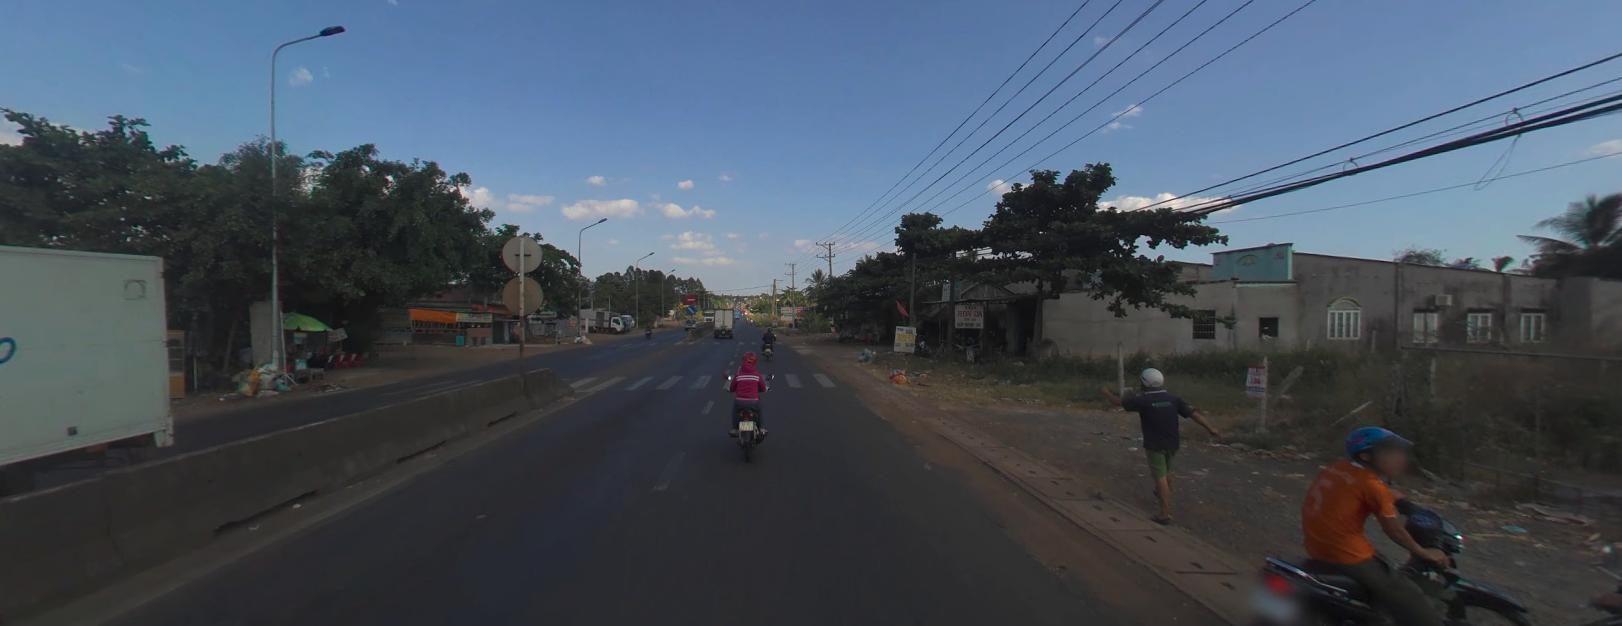Cam nguoc chieu: (685, 293, 694, 302)
Hieu lenh: (686, 303, 695, 312)
